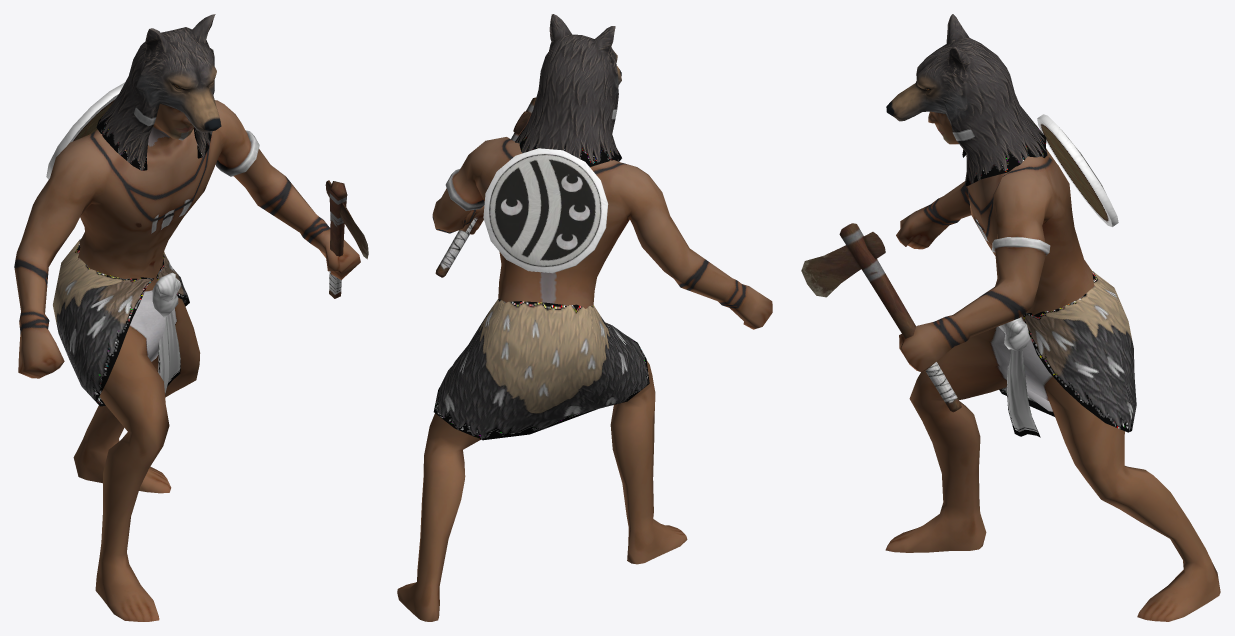
File: 164-coyotewarrior.glb
3 views of the same model, side by side, from view 1: azimuth 30°, elevation 25°; view 2: azimuth 150°, elevation 25°; view 3: azimuth 270°, elevation 25° (orthographic). The views are drawn at different scales.
Bounding box in the file's own units: 1.2 × 1.9 × 1.32.
Materials: 4 (4 with a texture image).
